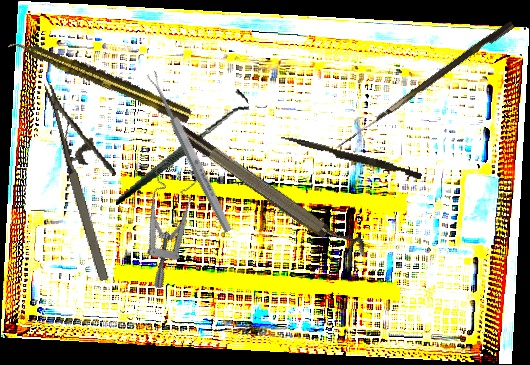Fixation Ring: (170, 112, 371, 269)
Handpiece: (7, 32, 193, 126)
Hook Surgical: (336, 17, 515, 157), (100, 87, 262, 206)
Needle Holder: (43, 71, 141, 283)
Pusher: (278, 134, 424, 180)
Speculum: (101, 152, 225, 292)
Surgical Spoon: (146, 70, 234, 234)
